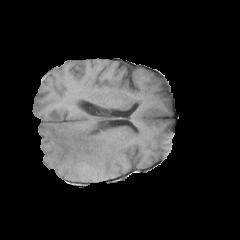glioma: (38, 122, 129, 181)
